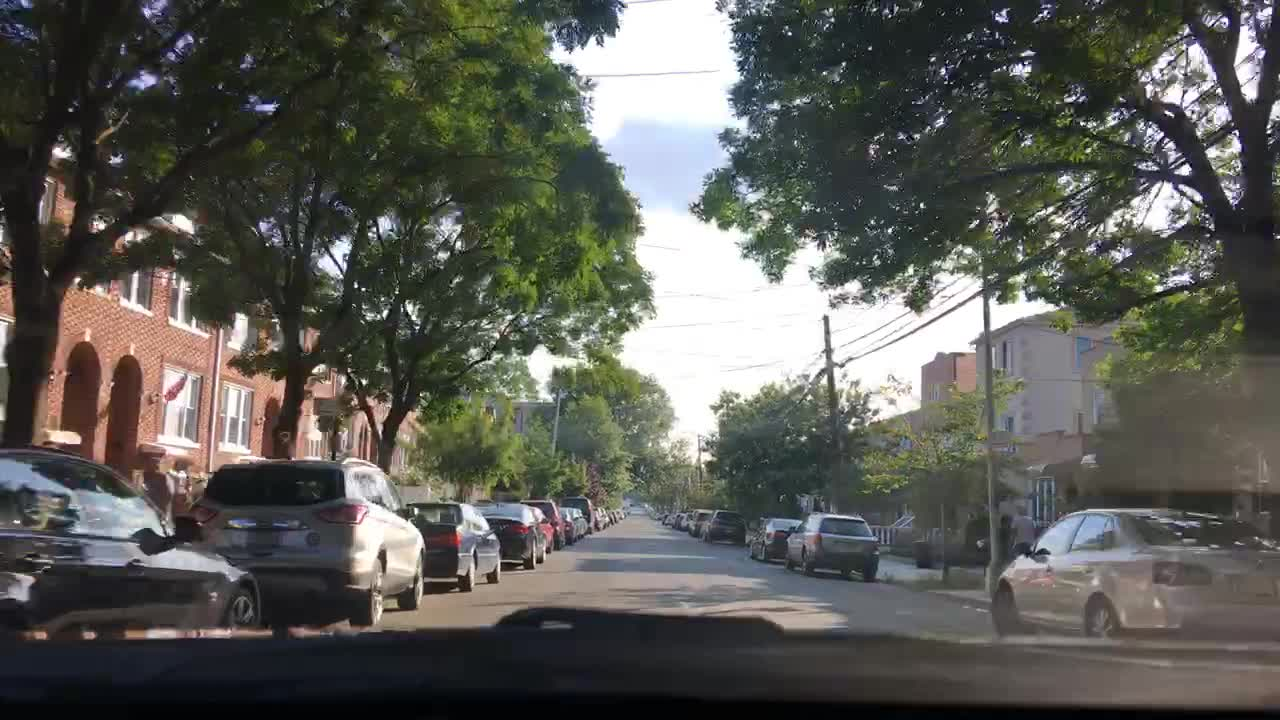car: (0, 444, 261, 631), (185, 458, 427, 628), (990, 507, 1277, 637), (399, 499, 500, 591), (784, 510, 880, 582), (471, 502, 547, 568), (746, 516, 807, 564), (521, 498, 564, 548), (558, 496, 595, 532), (707, 509, 746, 542), (558, 506, 589, 542), (691, 509, 714, 541), (681, 507, 699, 532), (593, 507, 610, 529), (662, 510, 679, 527), (675, 509, 688, 530), (606, 509, 619, 522), (653, 510, 667, 522), (650, 512, 659, 525), (615, 509, 624, 521), (622, 506, 630, 519)
person: (1007, 505, 1037, 560)
